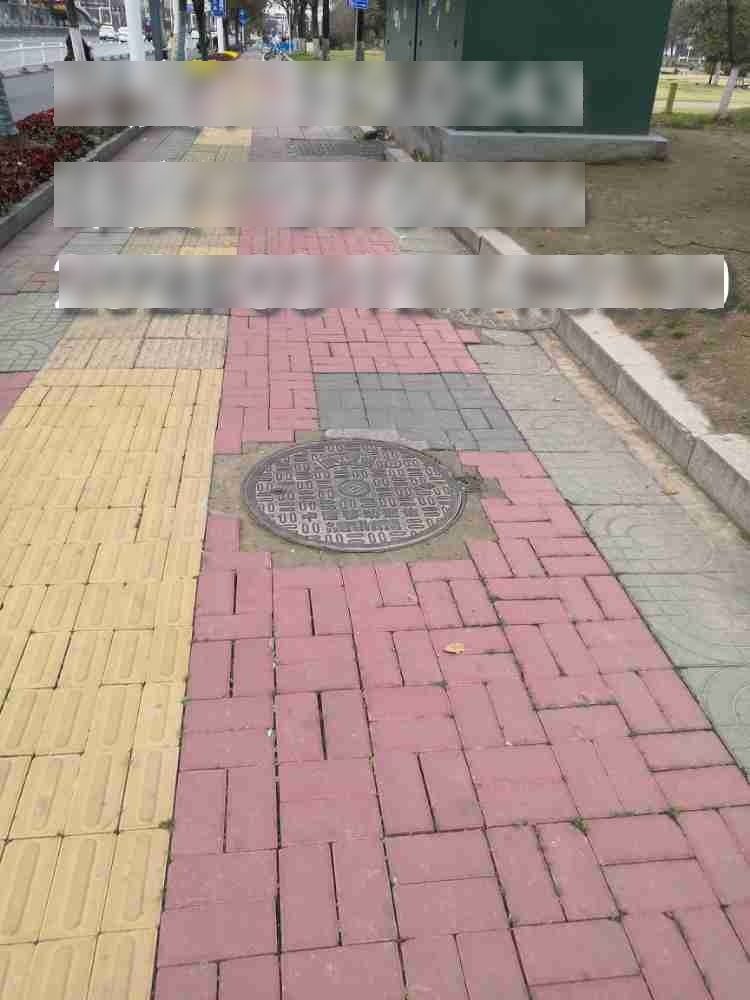well: (241, 437, 483, 555)
